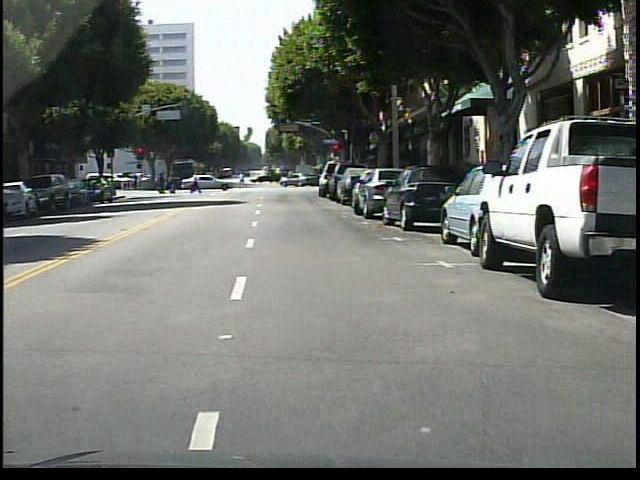person: (191, 167, 212, 196)
